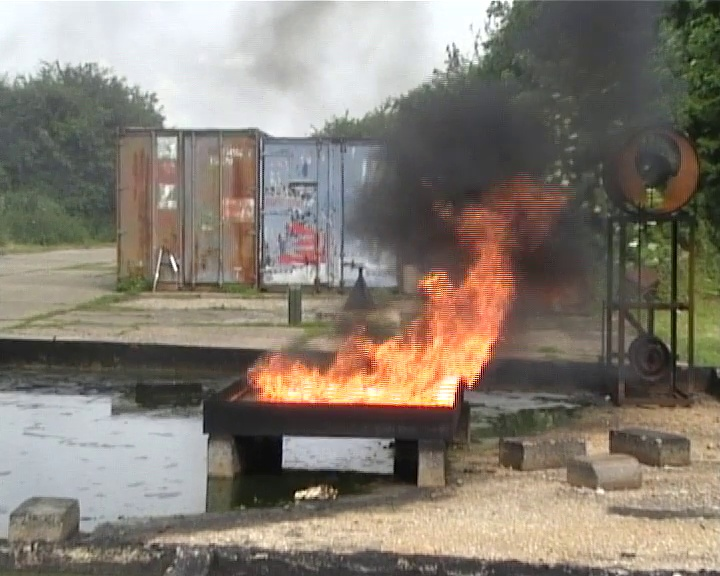fire: (248, 238, 519, 403)
